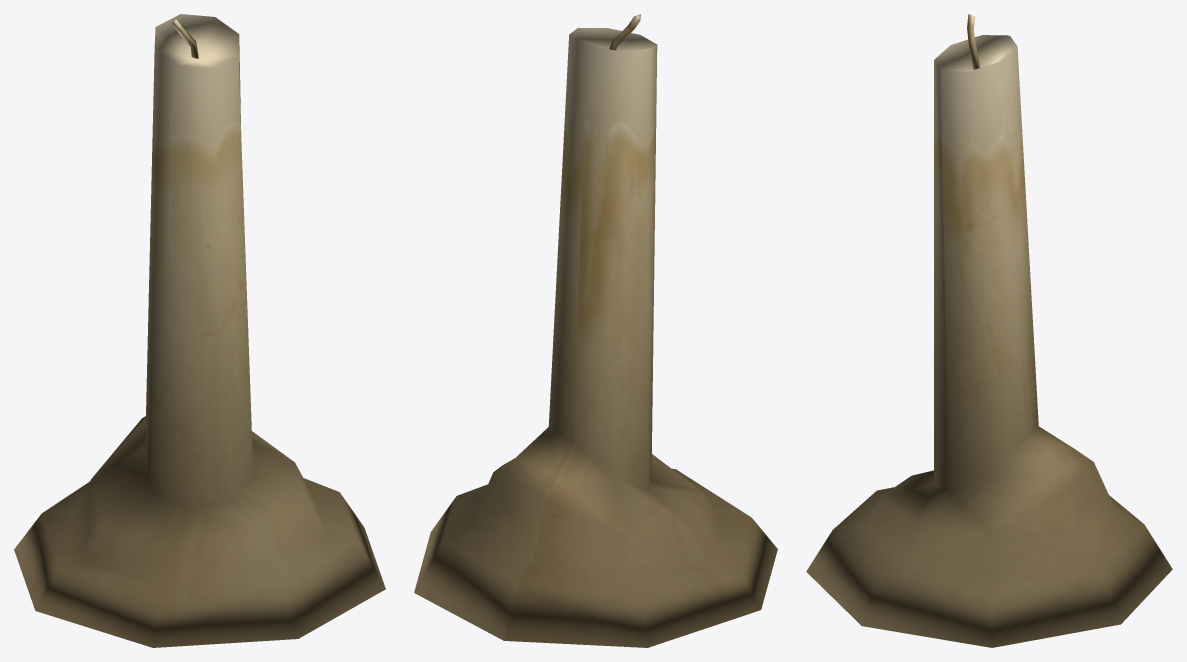
Rendered from candleSmall.fbx.
3 renders of one model, left to right at view 1: azimuth 30°, elevation 25°; view 2: azimuth 150°, elevation 25°; view 3: azimuth 270°, elevation 25°, orthographic. The views are drawn at different scales.
Parts seen in each view (by area): view 1: Mesh; view 2: Mesh; view 3: Mesh.
Part boxes in pixels (box(x1,y1,x2,y2)): Mesh: box(14, 14, 385, 647); Mesh: box(414, 14, 777, 647); Mesh: box(806, 14, 1172, 647).
Size of the model in its own units: 16.91 by 27.49 by 16.91.
